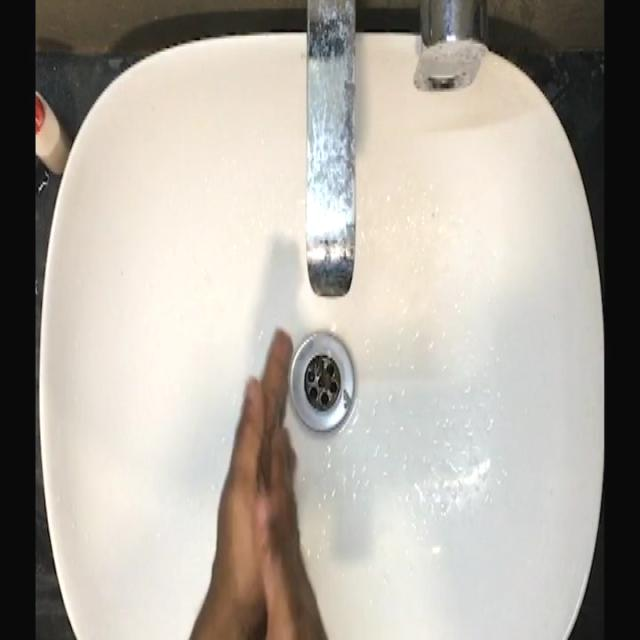step_1: (204, 298, 331, 622)
